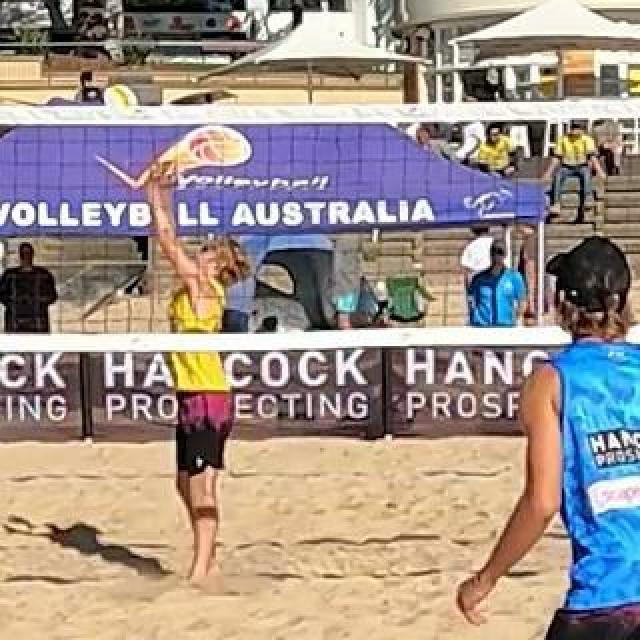volleyball: (97, 85, 137, 123)
